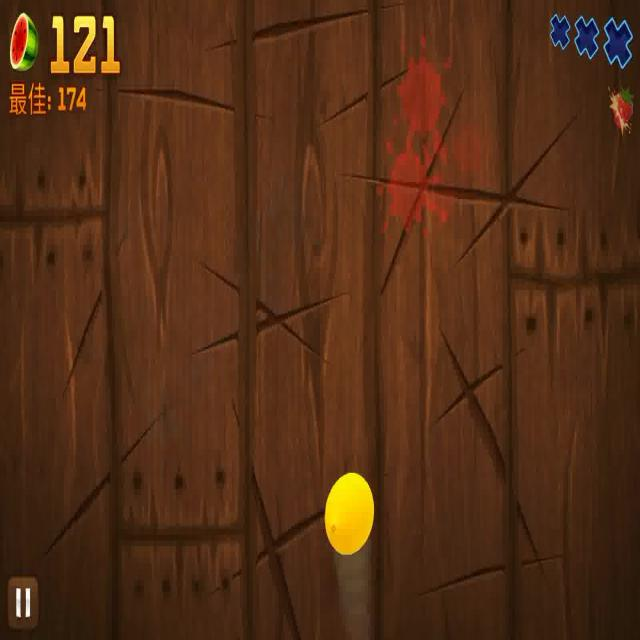fruit: (324, 474, 375, 554)
